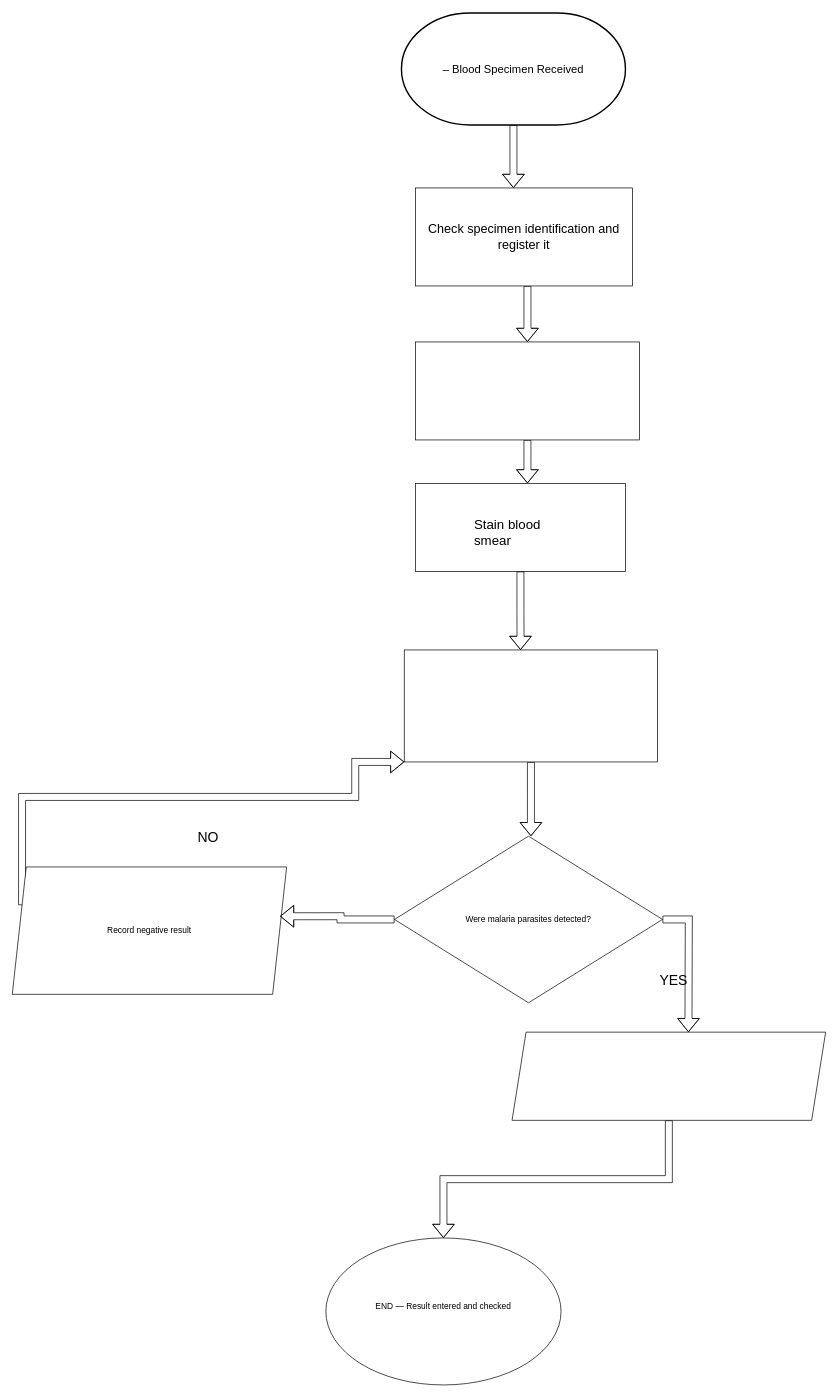
Some shapes in this 838 by 1397 pixel diagram are drawn without their labels. Here are the shapes that lost their labels. From the top down, the centre of each, then its label:
At [527,390]: "Prepare and dry blood smear".
At [531,705]: "Examine slide under microscope".
At [668,1075]: "Record positive result".
